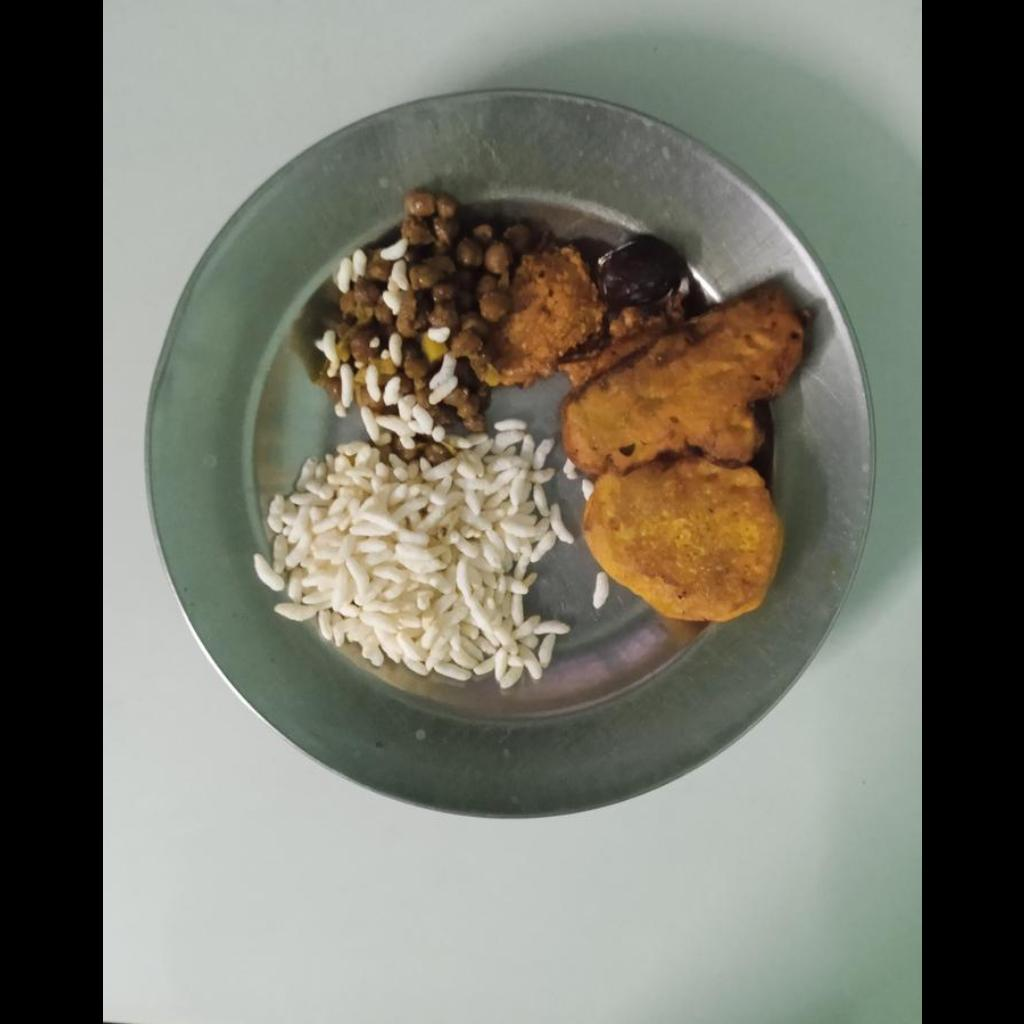beguni: (556, 292, 803, 467)
chola: (340, 196, 528, 416)
chop-alu: (584, 465, 778, 629)
dates: (595, 233, 691, 311)
piyaju: (485, 245, 683, 386)
puffed-rice: (252, 427, 569, 685)
